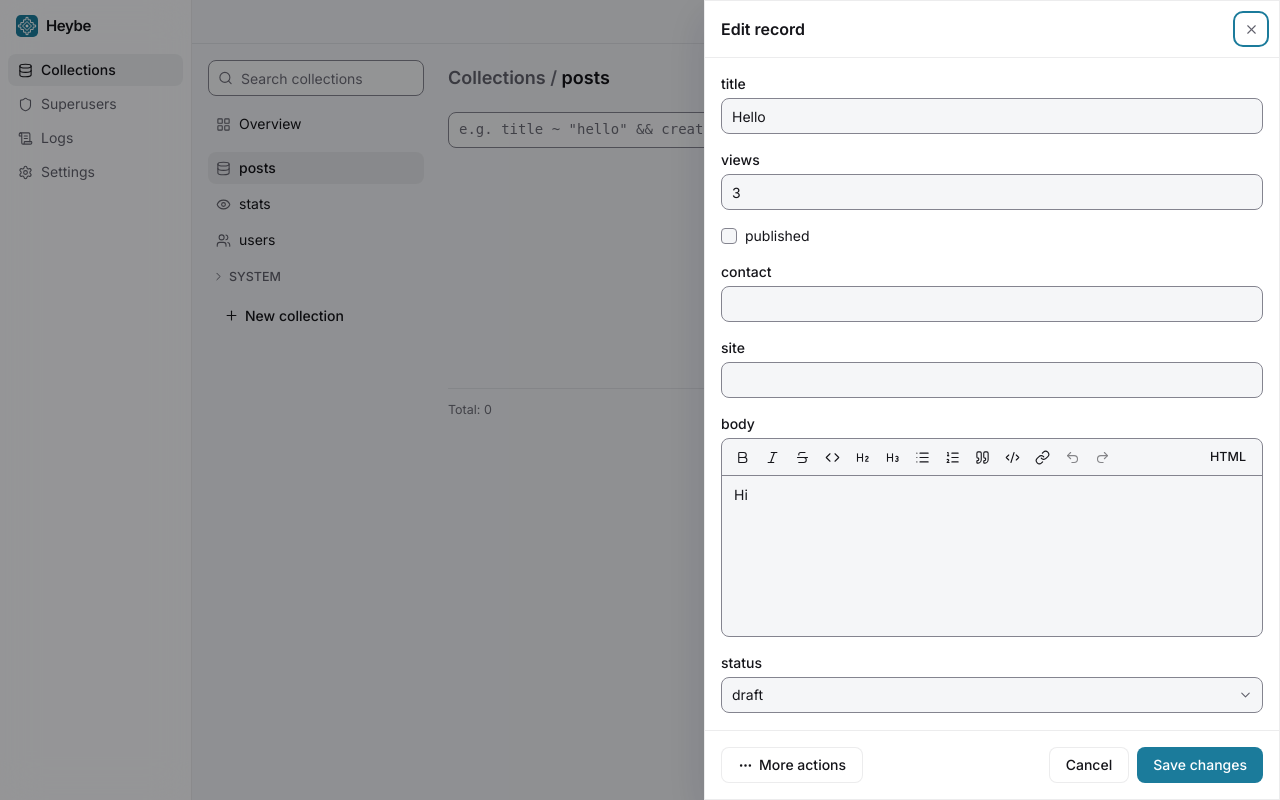
it: update sends only the changed keys
The width and height of the screenshot is (1280, 800).
expect the dialog "Edit record" is shown: met, box [704,0,1279,799]
Step 1. Replace the text in the field labelled "title" with "Changed" → (992,116), box [721,98,1263,134]
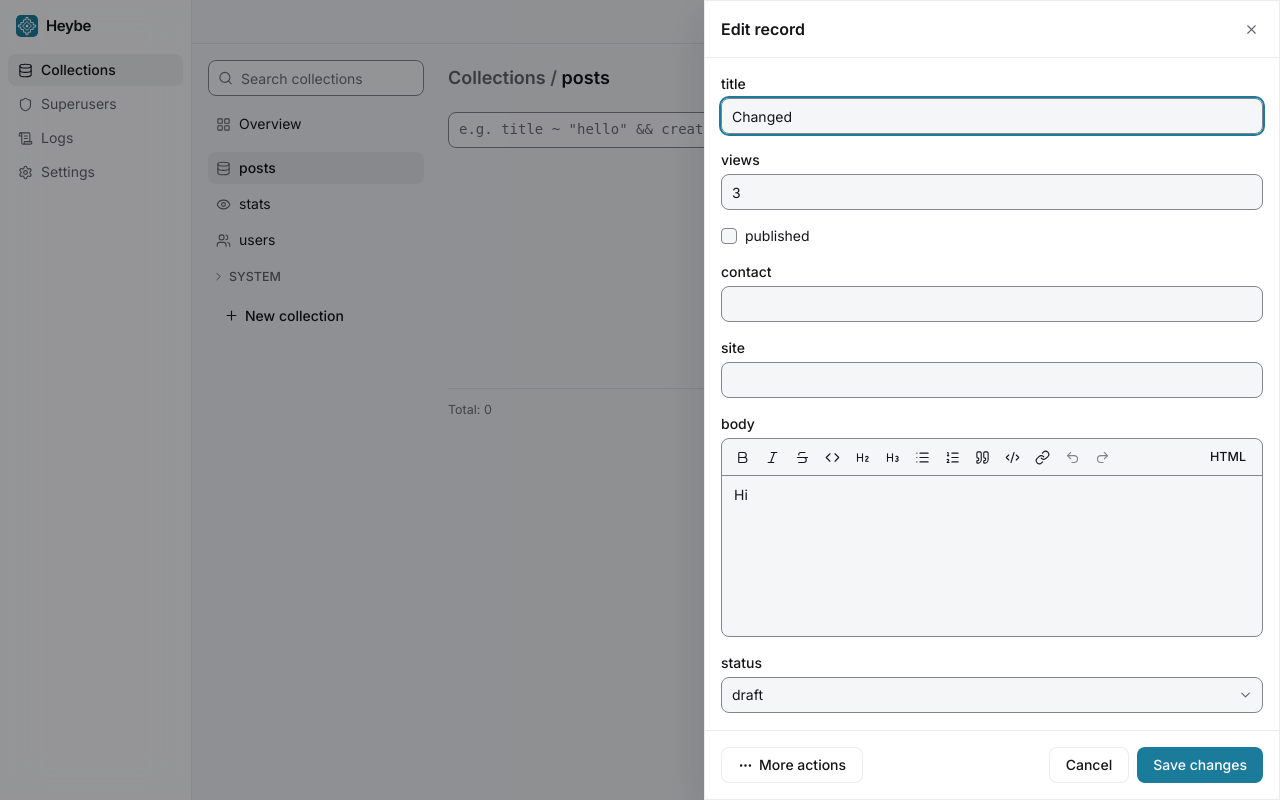
Step 2. Click the button "Save changes" → (1200,765), box [1137,747,1263,783]
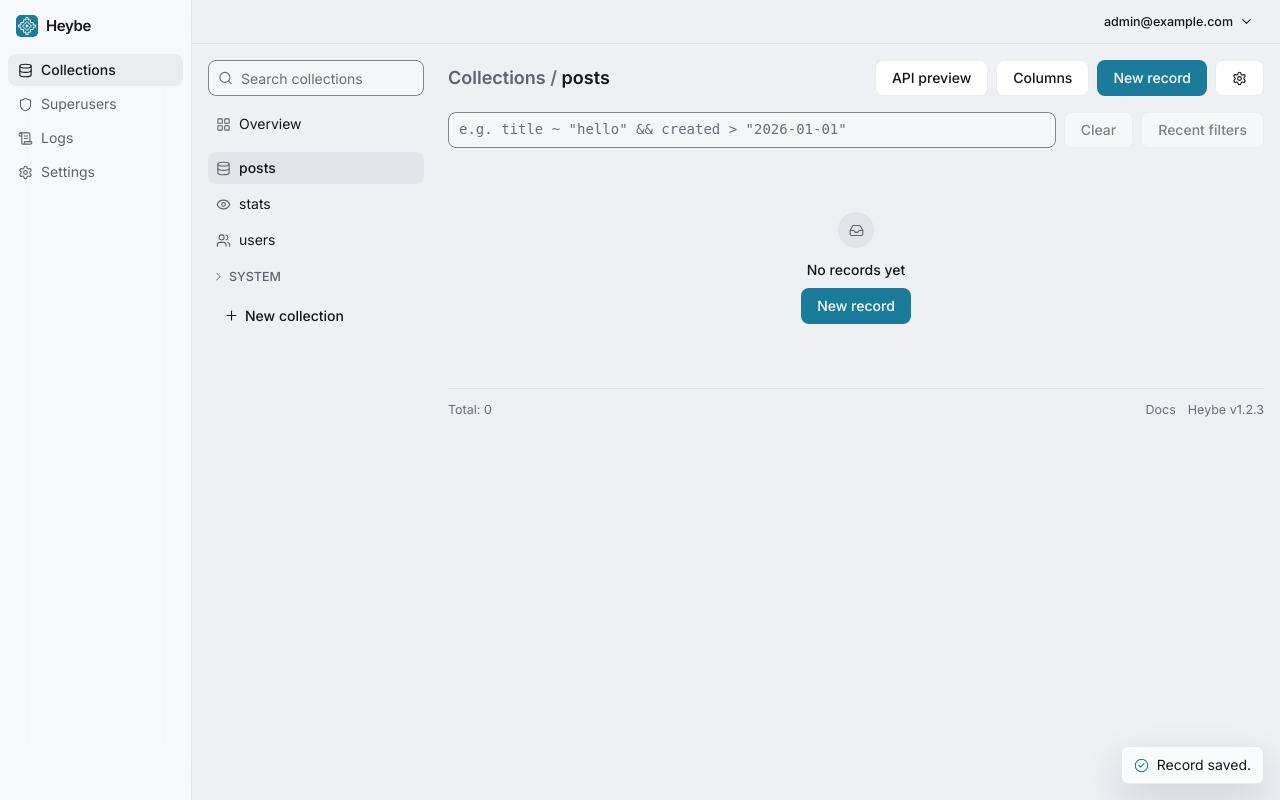
expect the text "Record saved." is shown: met, box [1121,746,1264,784]
